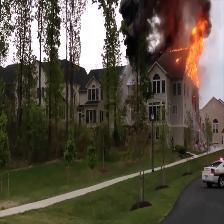fire: (184, 16, 212, 86), (165, 45, 185, 62)
